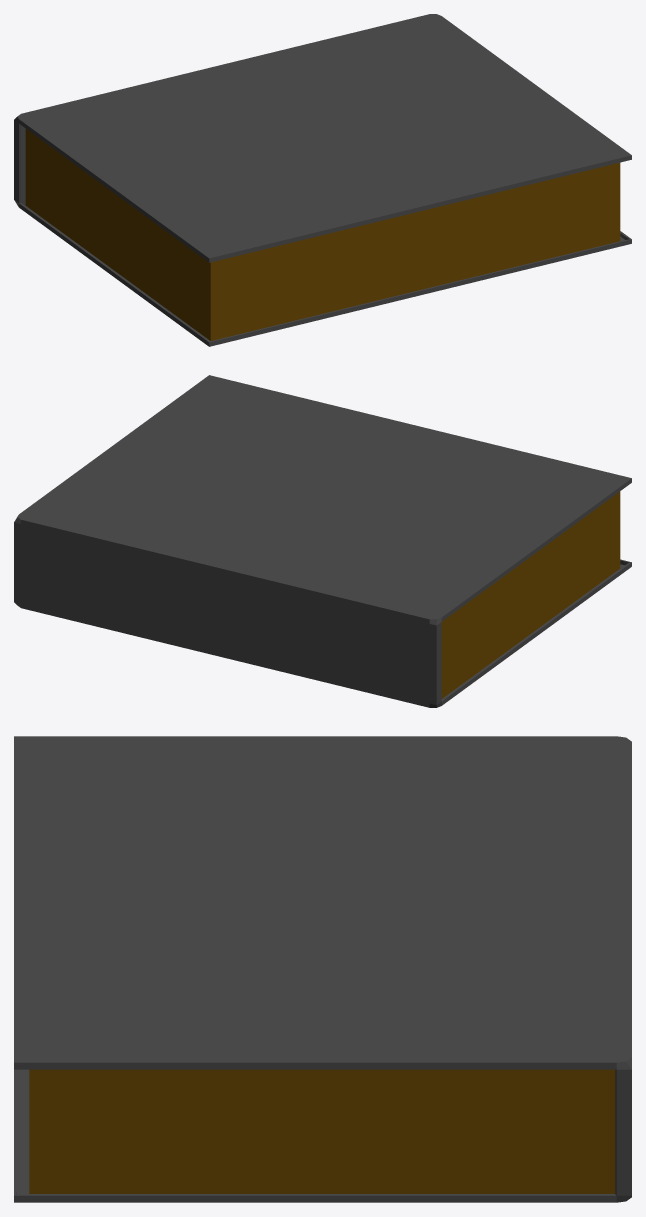
The model's file is _ook5.fbx.
3 views of the same model, one above another, from view 1: azimuth 30°, elevation 25°; view 2: azimuth 150°, elevation 25°; view 3: azimuth 270°, elevation 25° (orthographic). The views are drawn at different scales.
Visible parts, largest first — view 1: Cube; view 2: Cube; view 3: Cube.
Boxes of the visible parts, x1,y1,x2,y2 form: Cube: [14, 14, 631, 346]; Cube: [14, 375, 631, 707]; Cube: [14, 736, 631, 1202].
Size of the model in its own units: 200 by 40 by 160.
